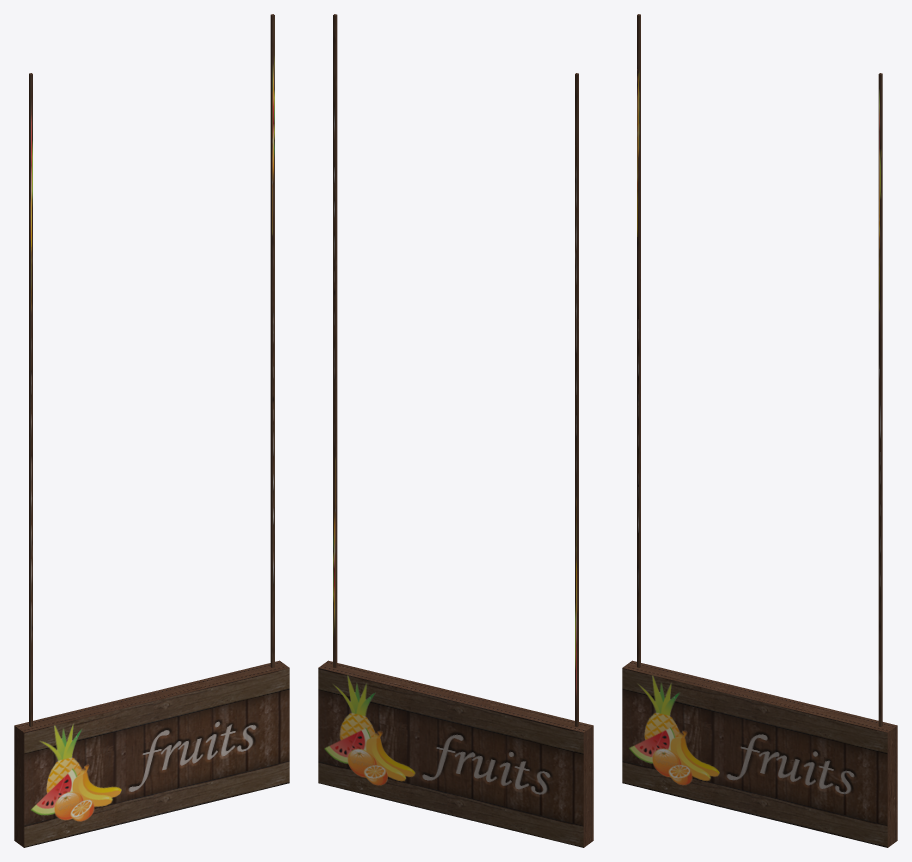
Rendered from SM_Signs_07.FBX.
3 views of the same model, side by side, from view 1: azimuth 30°, elevation 25°; view 2: azimuth 150°, elevation 25°; view 3: azimuth 330°, elevation 25° (orthographic).
Visible parts, largest first — view 1: SM_Signs_07; view 2: SM_Signs_07; view 3: SM_Signs_07.
Boxes of the visible parts, x1=… form: SM_Signs_07: x1=14, y1=14, x2=289, y2=847; SM_Signs_07: x1=318, y1=14, x2=593, y2=847; SM_Signs_07: x1=622, y1=14, x2=897, y2=847.
Size of the model in its own units: 83.45 by 230 by 5.42.
